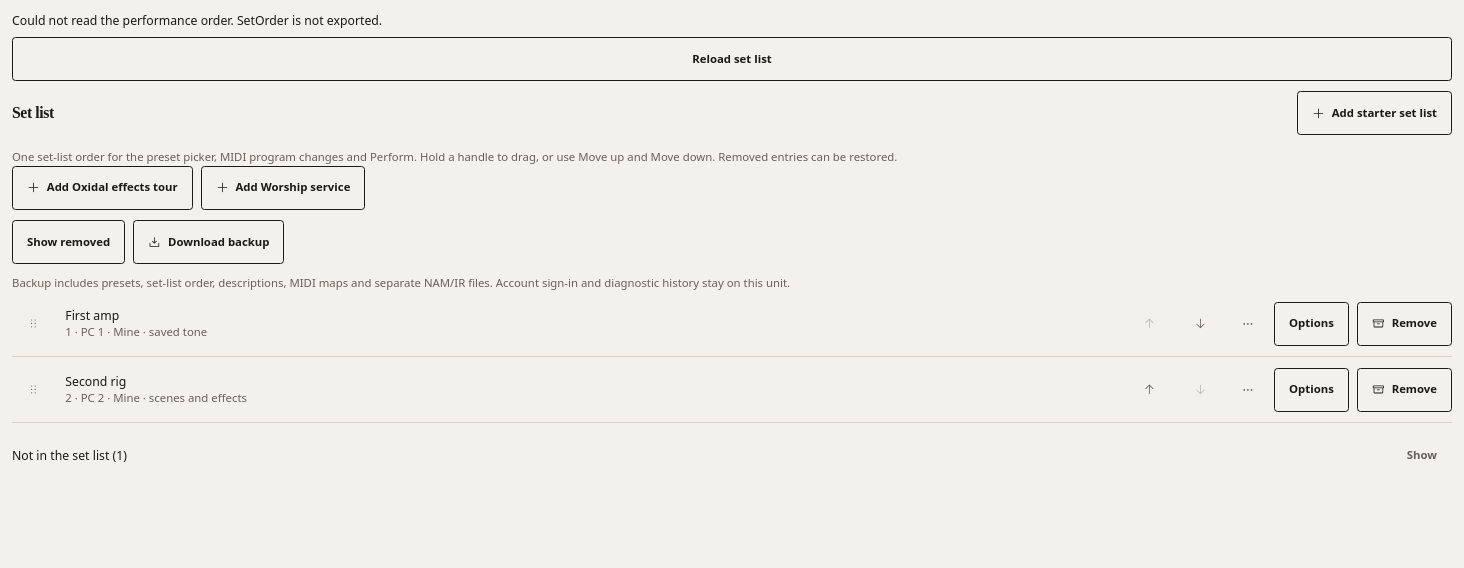
Test: lists only set-list members, numbered, and keeps the rest of Mine in its own group
The width and height of the screenshot is (1464, 568).
Expected: the text named "Set-list position 1" shows "1 · PC 1", [65,324,113,339]
Expected: the heading "Spare rig" is not shown
Click the button "Show": (1422, 456) [1392,434,1452,478]
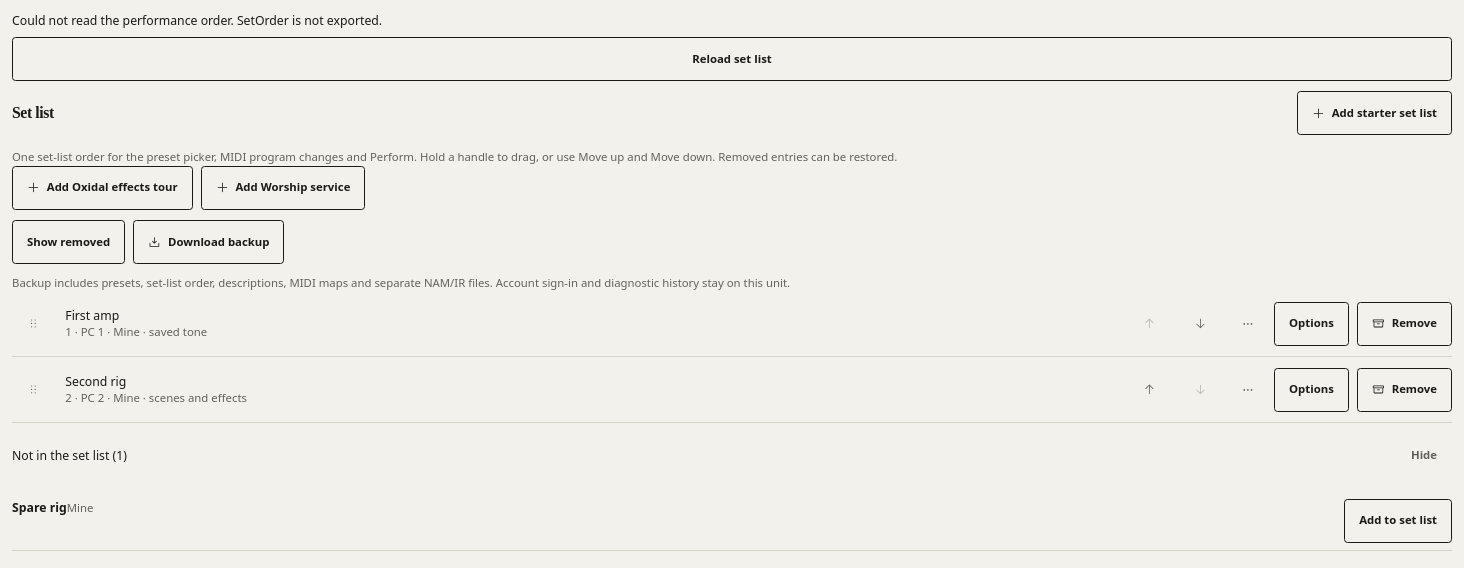
Click the button with aria-label "Add Spare rig to the set list": (1398, 521) [1344,499,1452,543]
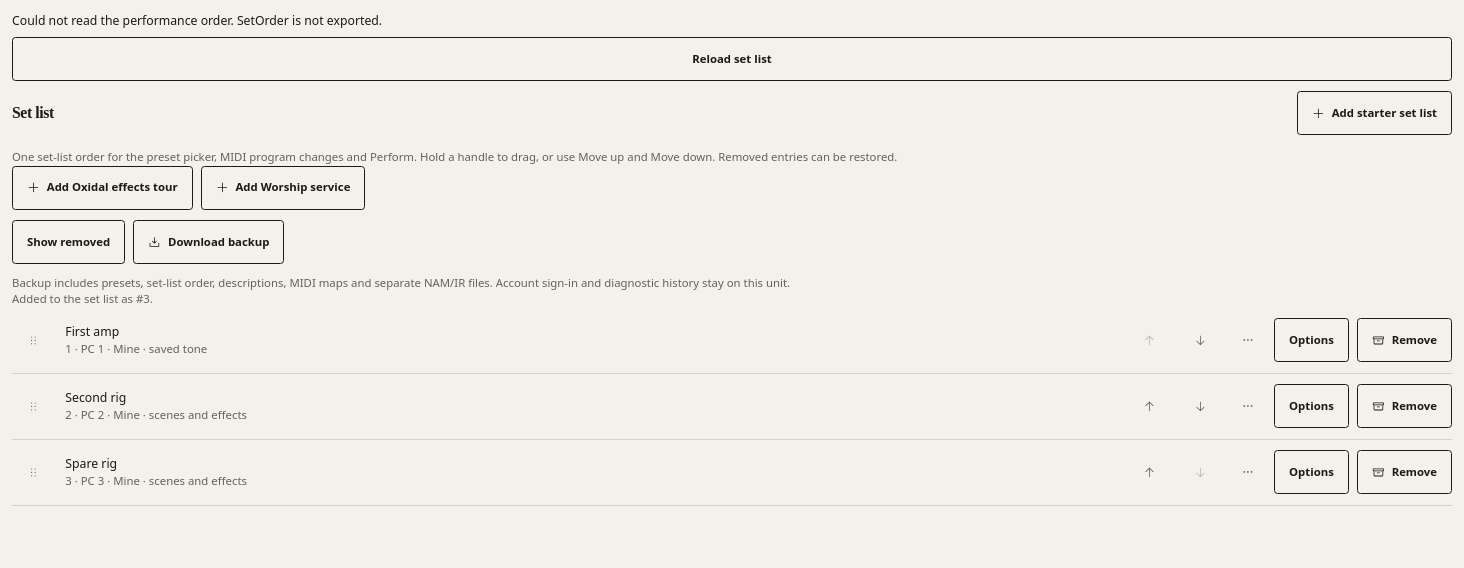
Expected: the text "Added to the set list as #3." is shown, [12,291,153,306]
